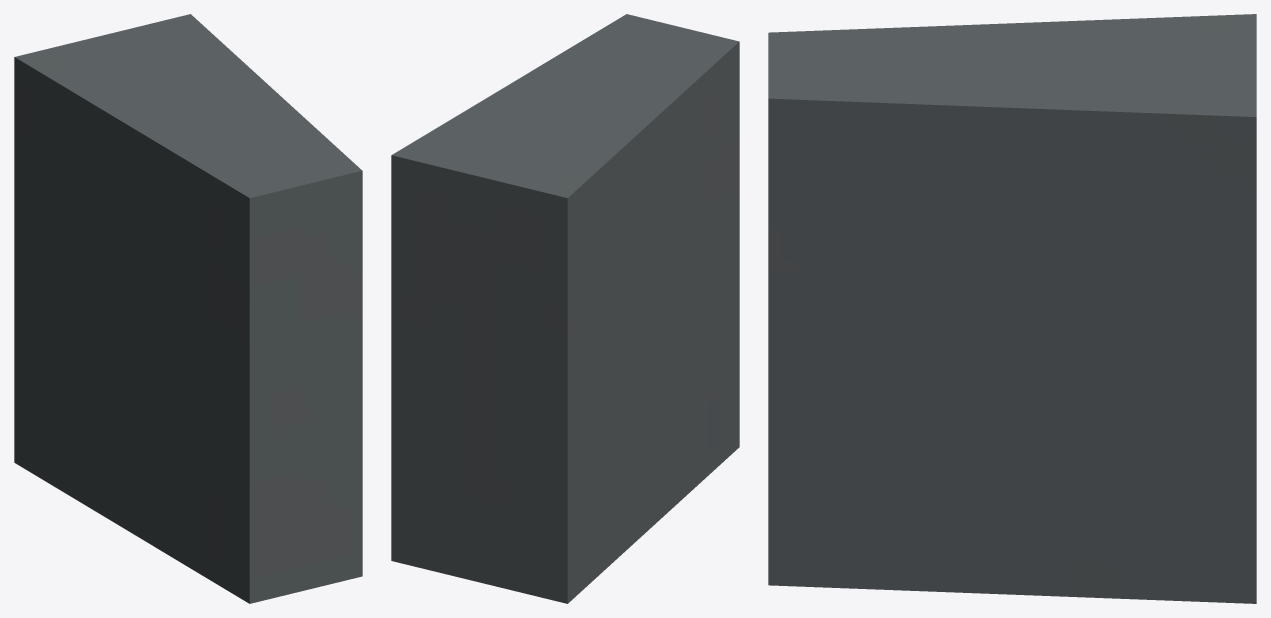
Rendered from payload_bracket__web_rib.glb.
3 renders of one model, left to right at view 1: azimuth 30°, elevation 25°; view 2: azimuth 150°, elevation 25°; view 3: azimuth 270°, elevation 25°, orthographic. The views are drawn at different scales.
Visible parts, largest first — view 1: geometry_0; view 2: geometry_0; view 3: geometry_0.
Boxes of the visible parts, x1=… form: geometry_0: x1=14, y1=14, x2=362, y2=603; geometry_0: x1=391, y1=14, x2=739, y2=603; geometry_0: x1=768, y1=14, x2=1256, y2=603.
Bounding box in the file's own units: 0.01 × 0.022 × 0.02.
Materials: 1 (1 with a texture image).
